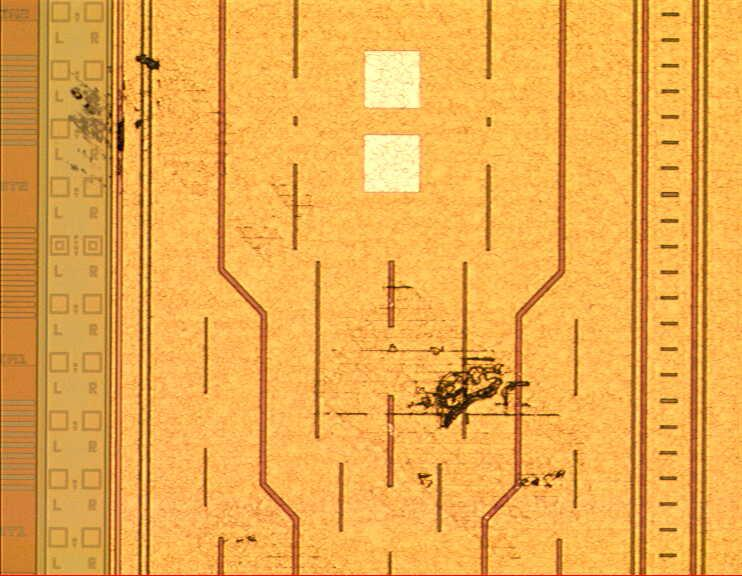PO CONTAMINATION: (48, 42, 594, 576)
